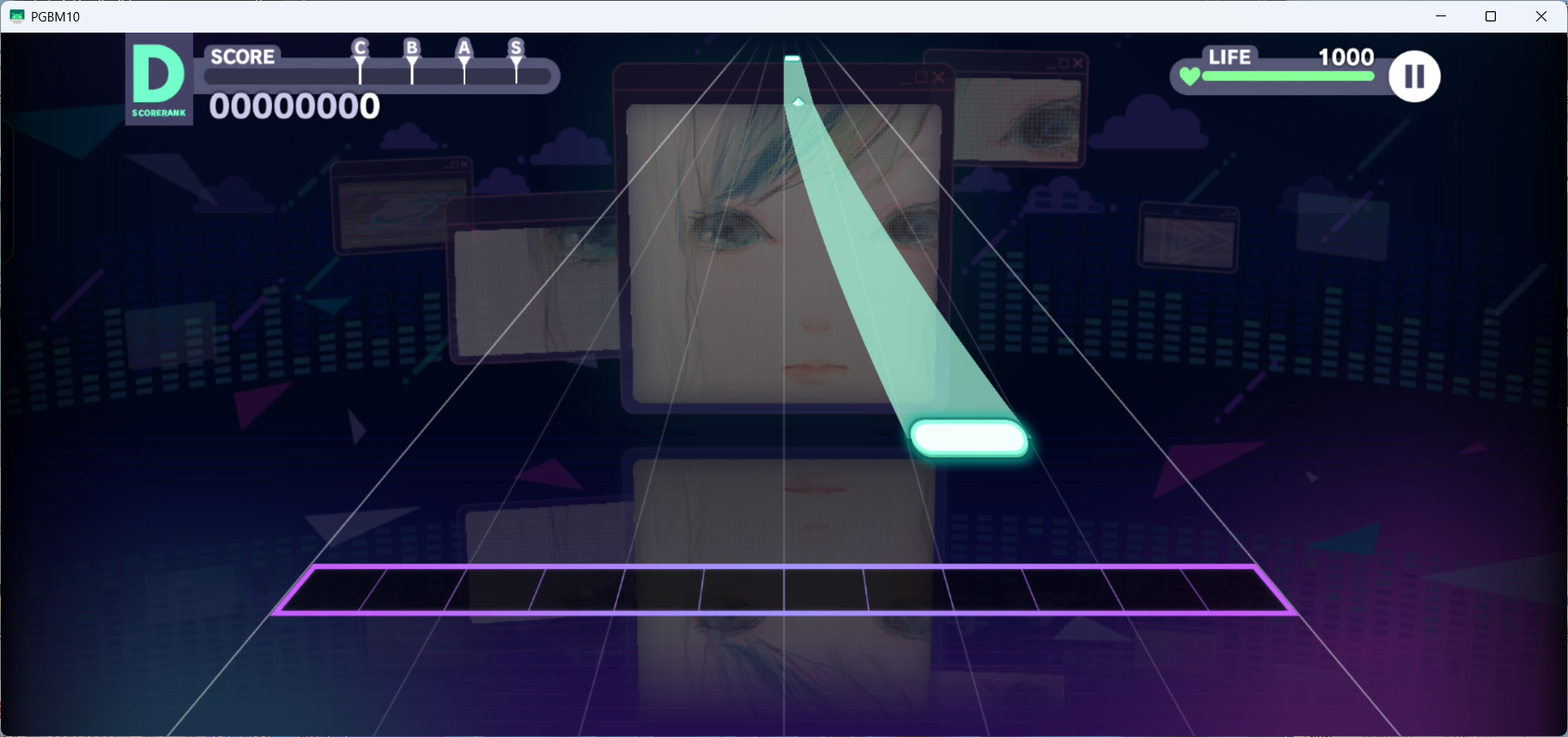hold: (783, 61, 1022, 424)
sweep: (792, 97, 805, 111)
tap: (911, 420, 1029, 457), (784, 55, 800, 61)
